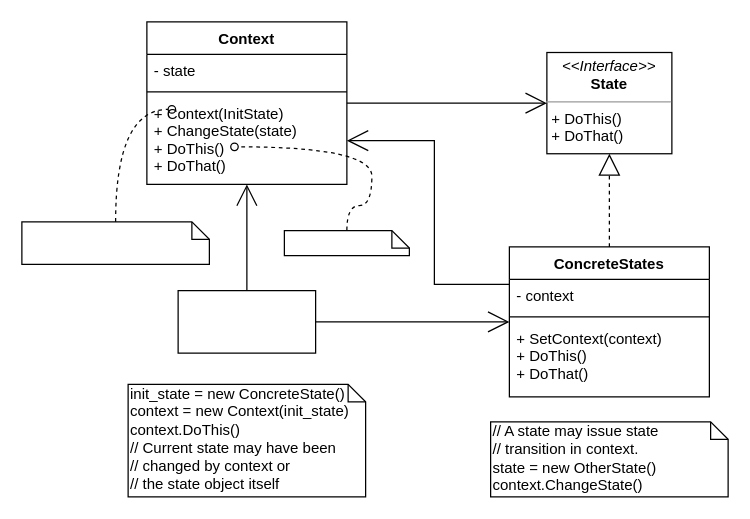
The diagram is 750 pixels wide and 519 high, and some of its shapes have lost their labels. Each missing label, with the centre of its shape:
Client: pixel 246 321
state.DoThis(): pixel 346 242
this.state = state state.SetContext(this): pixel 115 242
